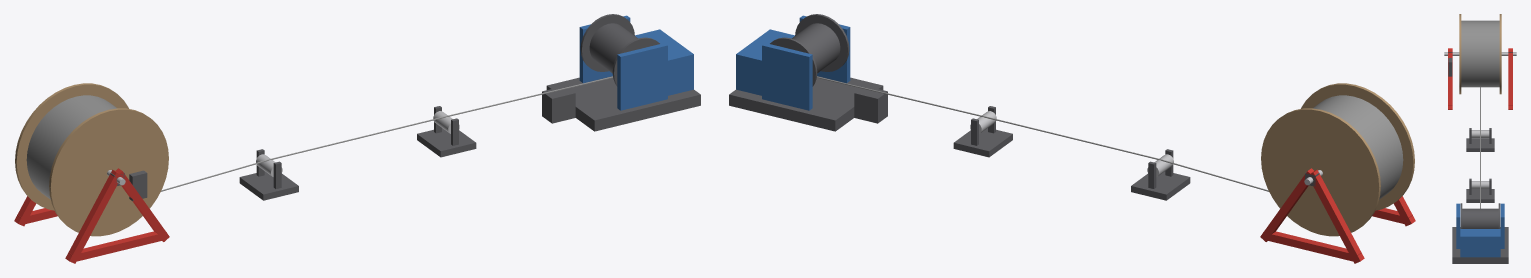
The model's file is SM_RopeChangingRig.fbx.
3 views of the same model, side by side, from view 1: azimuth 30°, elevation 25°; view 2: azimuth 150°, elevation 25°; view 3: azimuth 270°, elevation 25° (orthographic). The views are drawn at different scales.
Parts seen in each view (by area): view 1: RCR_Reel, RCR_Winch, RCR_ReelStand, RCR_GuideRollers, RCR_WinchDrum, RCR_Rope; view 2: RCR_Reel, RCR_Winch, RCR_ReelStand, RCR_GuideRollers, RCR_WinchDrum, RCR_Rope; view 3: RCR_Reel, RCR_Winch, RCR_GuideRollers, RCR_WinchDrum, RCR_ReelStand, RCR_Rope.
Boxes of the visible parts, x1,y1,x2,y2 form: RCR_Reel: (15,83,168,236); RCR_Winch: (542,15,700,131); RCR_ReelStand: (14,168,169,263); RCR_GuideRollers: (239,106,476,200); RCR_WinchDrum: (580,14,659,86); RCR_Rope: (161,76,612,191); RCR_Reel: (1261,83,1414,236); RCR_Winch: (729,15,887,131); RCR_ReelStand: (1260,168,1415,263); RCR_GuideRollers: (953,106,1190,200); RCR_WinchDrum: (770,14,849,86); RCR_Rope: (817,76,1268,191); RCR_Reel: (1459,14,1501,94); RCR_Winch: (1452,203,1508,263); RCR_GuideRollers: (1466,128,1494,202); RCR_WinchDrum: (1460,203,1500,228); RCR_ReelStand: (1444,48,1516,109); RCR_Rope: (1480,87,1480,208).
Size of the model in its own units: 1090 by 218 by 180.
